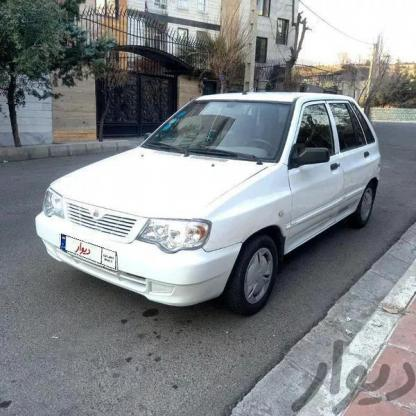Car: (25, 76, 385, 318)
